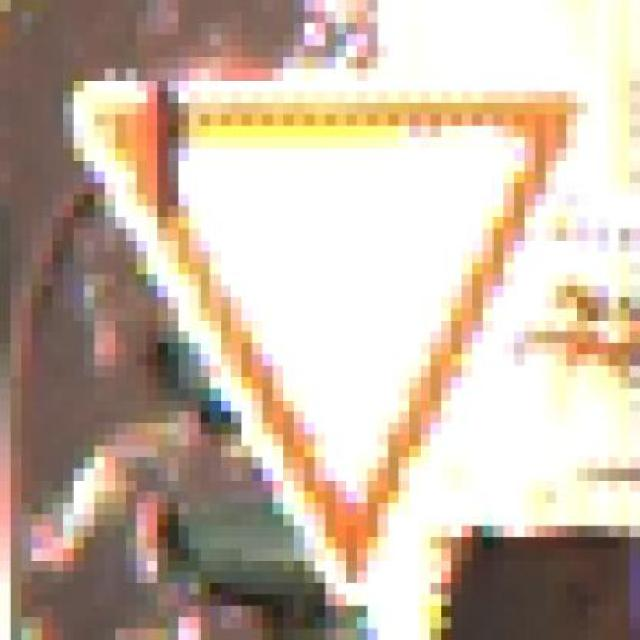Give Way: (52, 45, 588, 606)
